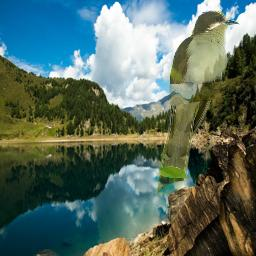Cuckoo: (156, 10, 240, 197)
